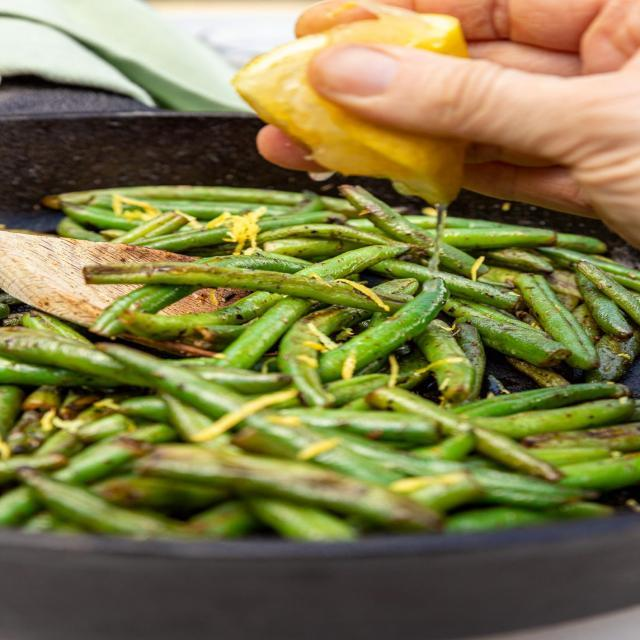Beans: (0, 169, 639, 544)
